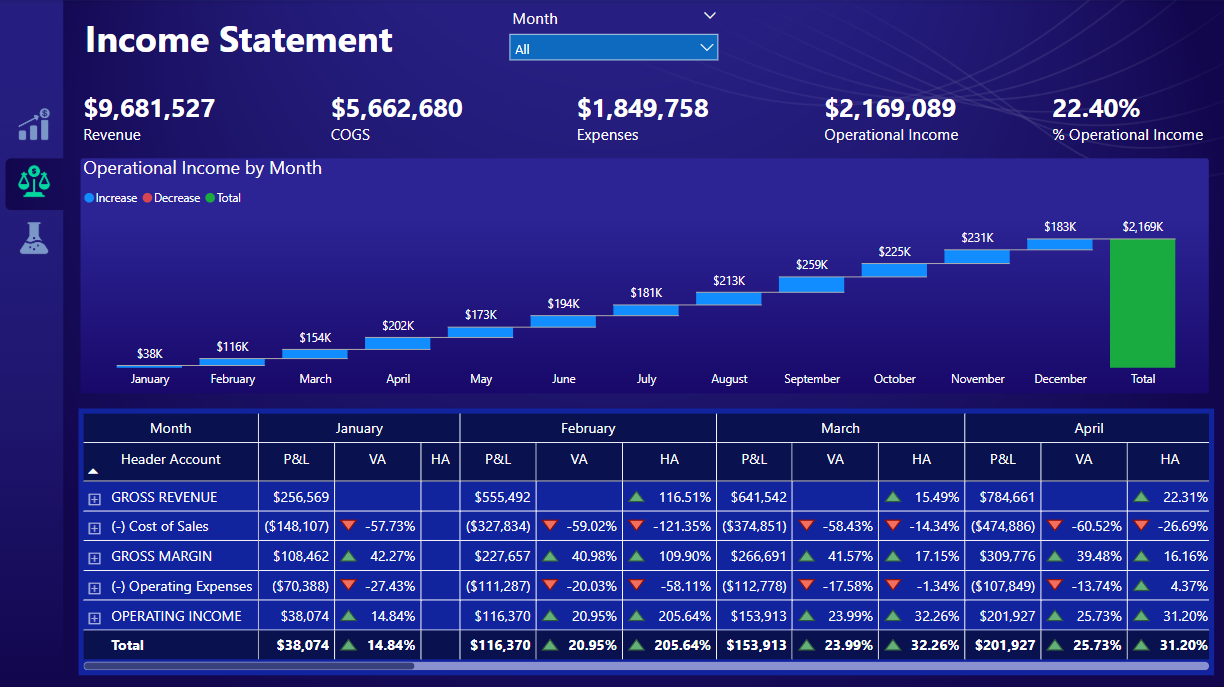

This screenshot's page, from the dashboard's own definition file:
{"tool":"powerbi","page":{"name":"Income Statement","canvas":[1280,720],"ordinal":1},"visuals":[{"type":"image","box":[6.7,159.3,60,60],"z":0},{"type":"image","box":[6.7,99.3,60,60],"z":1000},{"type":"image","box":[6.7,219.3,60,60],"z":2000},{"type":"pivotTable","fields":{"Rows":["dAccountHeader.Header Account","dAccount.Subheader Account","dAccount.Detailed Account"],"Values":["Key Measures.P&L","Key Measures.VA","Key Measures.HA"],"Columns":["dCalendar.Date.Variation.Date Hierarchy.Month"]},"box":[83.2,427.1,1183,277.8],"z":3000},{"type":"waterfallChart","fields":{"Category":["dCalendar.Date.Variation.Date Hierarchy.Month"],"Y":["Key Measures.Operational Income"]},"box":[83.2,162.5,1183,251.3],"z":4000},{"type":"multiRowCard","title":"Operational Revenue","fields":{"Values":["Key Measures.Revenue"]},"box":[83.2,88.8,155,73.7],"z":5000},{"type":"multiRowCard","title":"Operational Revenue","fields":{"Values":["Key Measures.VA"]},"box":[1092.3,88.8,173.9,73.7],"z":6000},{"type":"multiRowCard","title":"Operational Revenue","fields":{"Values":["Key Measures.COGS"]},"box":[340.2,88.8,155,73.7],"z":7000},{"type":"multiRowCard","title":"Operational Revenue","fields":{"Values":["Key Measures.Expenses"]},"box":[597.2,88.8,155,73.7],"z":8000},{"type":"multiRowCard","title":"Operational Revenue","fields":{"Values":["Key Measures.Operational Income"]},"box":[854.2,88.8,155,73.7],"z":9000},{"type":"slicer","fields":{"Values":["dCalendar.Month"]},"box":[521.3,3.3,237.6,84.4],"z":10000},{"type":"textbox","box":[85,10,436.7,90],"z":11000}]}

Visuals, with their boxes in screenshot pixels (x1, y1, x2, y2), scaled from the page's 1280x720 canvas onto the 1224x687 screenshot:
image: (x1=6, y1=152, x2=64, y2=209)
image: (x1=6, y1=95, x2=64, y2=152)
image: (x1=6, y1=209, x2=64, y2=266)
pivotTable - dAccountHeader.Header Account x dAccount.Subheader Account: (x1=80, y1=408, x2=1211, y2=673)
waterfallChart - dCalendar.Date.Variation.Date Hierarchy.Month x Key Measures.Operational Income: (x1=80, y1=155, x2=1211, y2=395)
"Operational Revenue" multiRowCard: (x1=80, y1=85, x2=228, y2=155)
"Operational Revenue" multiRowCard: (x1=1045, y1=85, x2=1211, y2=155)
"Operational Revenue" multiRowCard: (x1=325, y1=85, x2=474, y2=155)
"Operational Revenue" multiRowCard: (x1=571, y1=85, x2=719, y2=155)
"Operational Revenue" multiRowCard: (x1=817, y1=85, x2=965, y2=155)
slicer - dCalendar.Month: (x1=498, y1=3, x2=726, y2=84)
textbox: (x1=81, y1=10, x2=499, y2=95)
